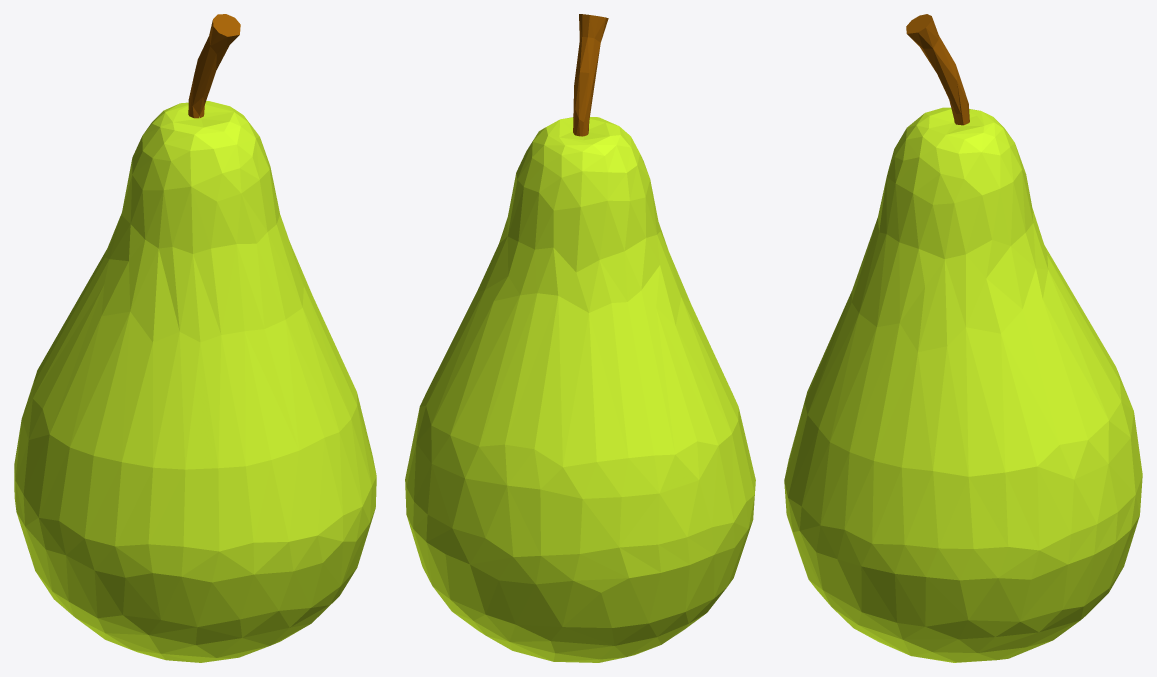
Rendered from Pear.fbx.
3 views of the same model, side by side, from view 1: azimuth 30°, elevation 25°; view 2: azimuth 150°, elevation 25°; view 3: azimuth 270°, elevation 25° (orthographic). The views are drawn at different scales.
Parts seen in each view (by area): view 1: Pear; view 2: Pear; view 3: Pear.
Boxes of the visible parts, bbox=[...] form: Pear: bbox=[14, 14, 376, 662]; Pear: bbox=[405, 14, 755, 662]; Pear: bbox=[784, 14, 1142, 662].
Size of the model in its own units: 0.5046 by 0.9789 by 0.5044.
